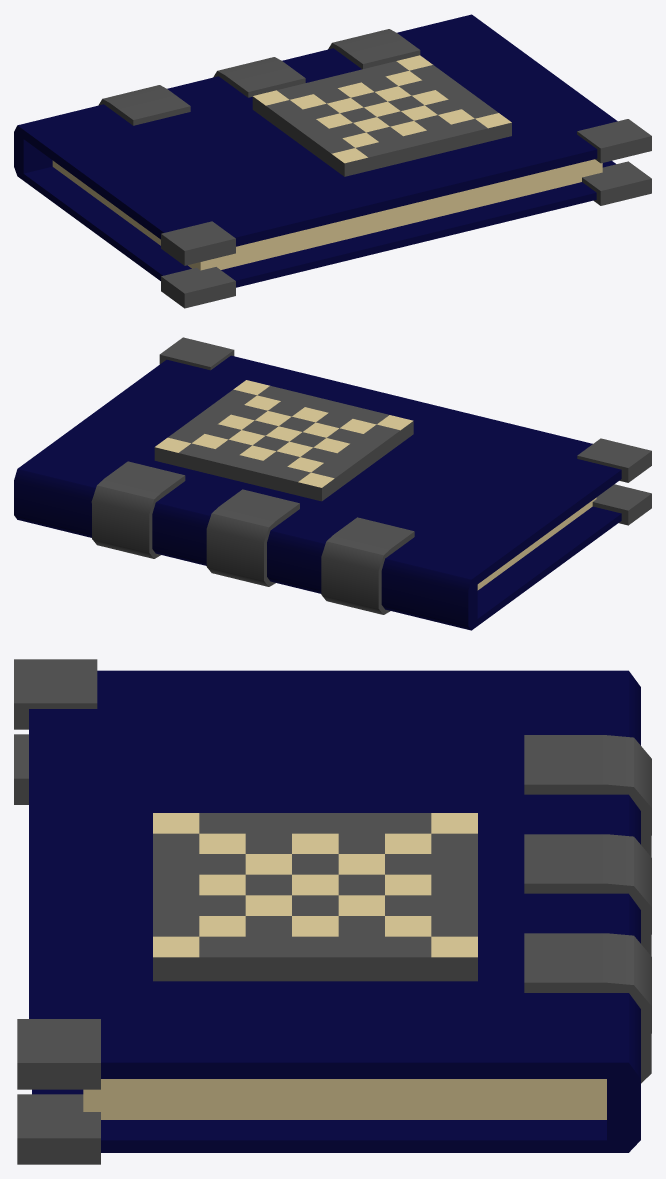
File: closed_book.fbx
3 renders of one model, top to bottom at view 1: azimuth 30°, elevation 25°; view 2: azimuth 150°, elevation 25°; view 3: azimuth 270°, elevation 25°, orthographic. The views are drawn at different scales.
Visible parts, largest first — view 1: pCube62; view 2: pCube62; view 3: pCube62.
Boxes of the visible parts, x1,y1,x2,y2 form: pCube62: [14, 14, 651, 308]; pCube62: [14, 337, 651, 630]; pCube62: [14, 659, 651, 1164].
Size of the model in its own units: 588 by 84.29 by 393.
